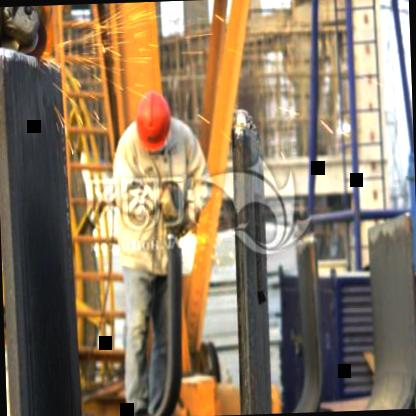helmet: (133, 89, 174, 158)
